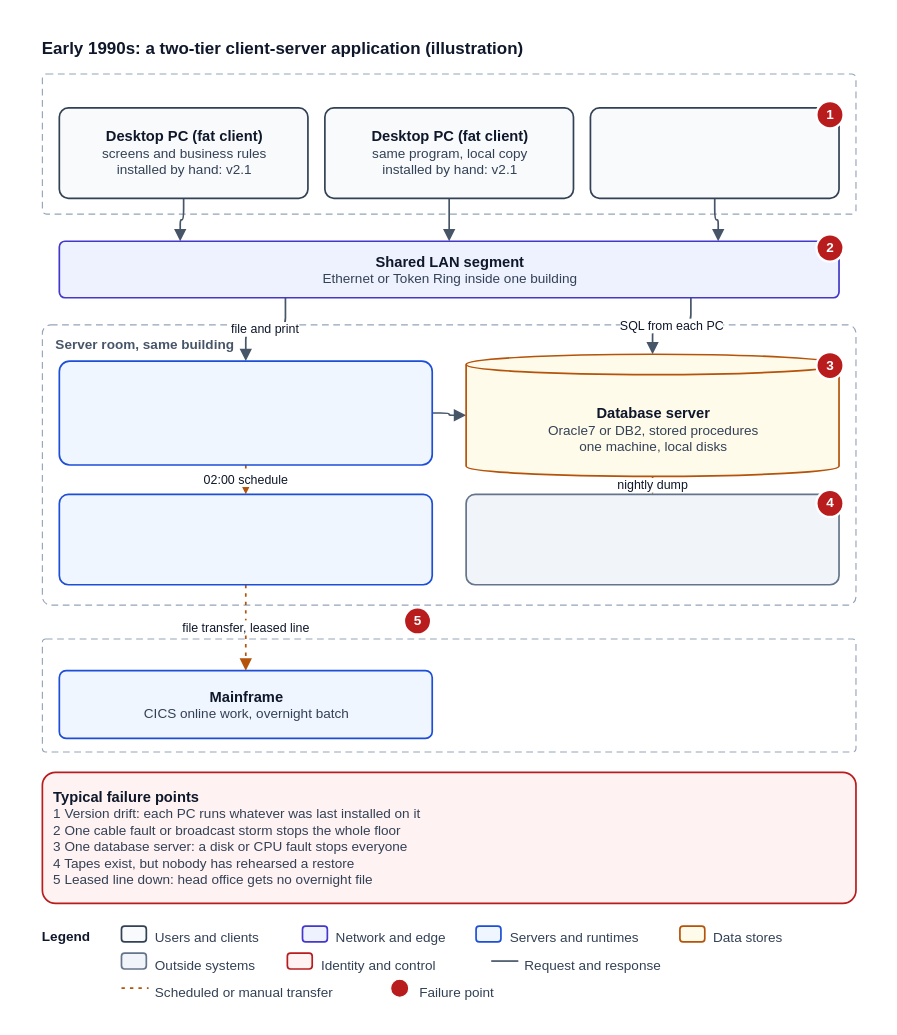
Some shapes in this 897 by 1035 pixel diagram are drawn without their labels. Each missing label, with the box of its shape:
Application / file server NetWare or Unix shared files, printing, some logic: (58, 360, 433, 465)
Desktop PC (fat client) nobody updated this one still on v1.9: (589, 107, 839, 199)
Head office data centre: (41, 638, 856, 752)
Office floor: desktop PCs: (41, 73, 856, 214)
Overnight batch jobs statements, interest, reports: (58, 493, 433, 585)
Tape backup nightly full copy tapes driven offsite weekly: (465, 493, 839, 585)
